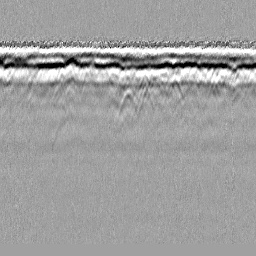cavity: (116, 86, 138, 118)
